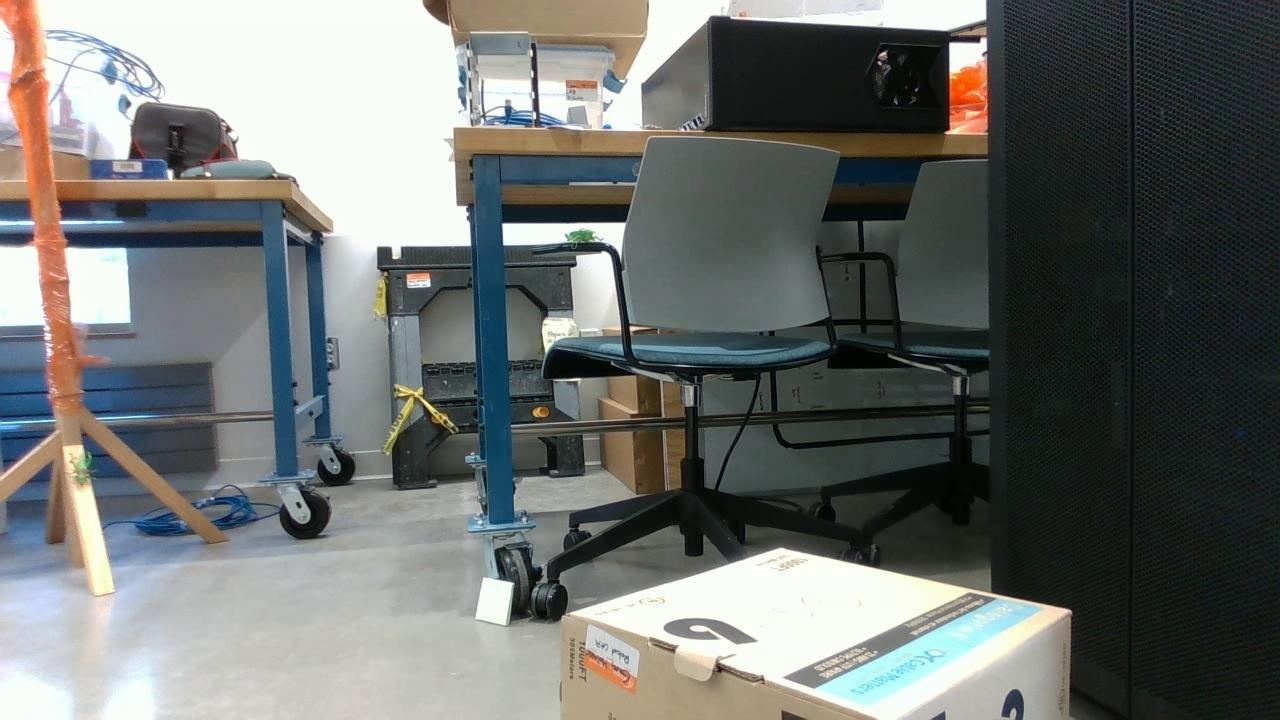grasshopper: (562, 229, 604, 247), (70, 454, 93, 484)
